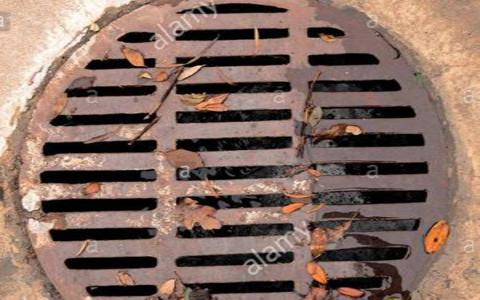proper manhole: (7, 1, 466, 290)
